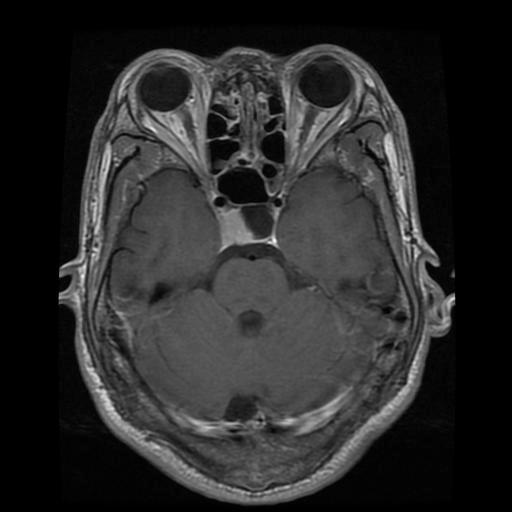Tumour-Pituitary: (200, 194, 304, 255)
